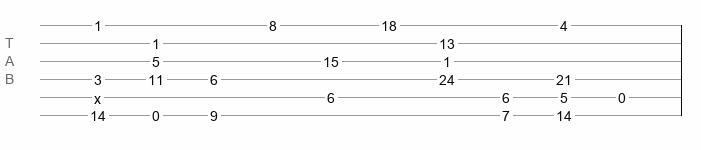0: (152, 108, 160, 118), (618, 90, 626, 100)
1: (94, 18, 102, 28), (152, 36, 160, 46), (443, 54, 451, 64)
11: (148, 72, 164, 82)
13: (439, 36, 455, 46)
14: (90, 108, 106, 118), (556, 108, 572, 118)
15: (323, 54, 339, 64)
18: (381, 18, 397, 28)
21: (556, 72, 572, 82)
24: (439, 72, 455, 82)
3: (94, 72, 102, 82)
4: (560, 18, 568, 28)
5: (152, 54, 160, 64), (560, 90, 568, 100)
6: (210, 72, 218, 82), (327, 90, 335, 100), (502, 90, 510, 100)
7: (502, 108, 510, 118)
8: (269, 18, 277, 28)
9: (210, 108, 218, 118)
x: (94, 91, 101, 99)
